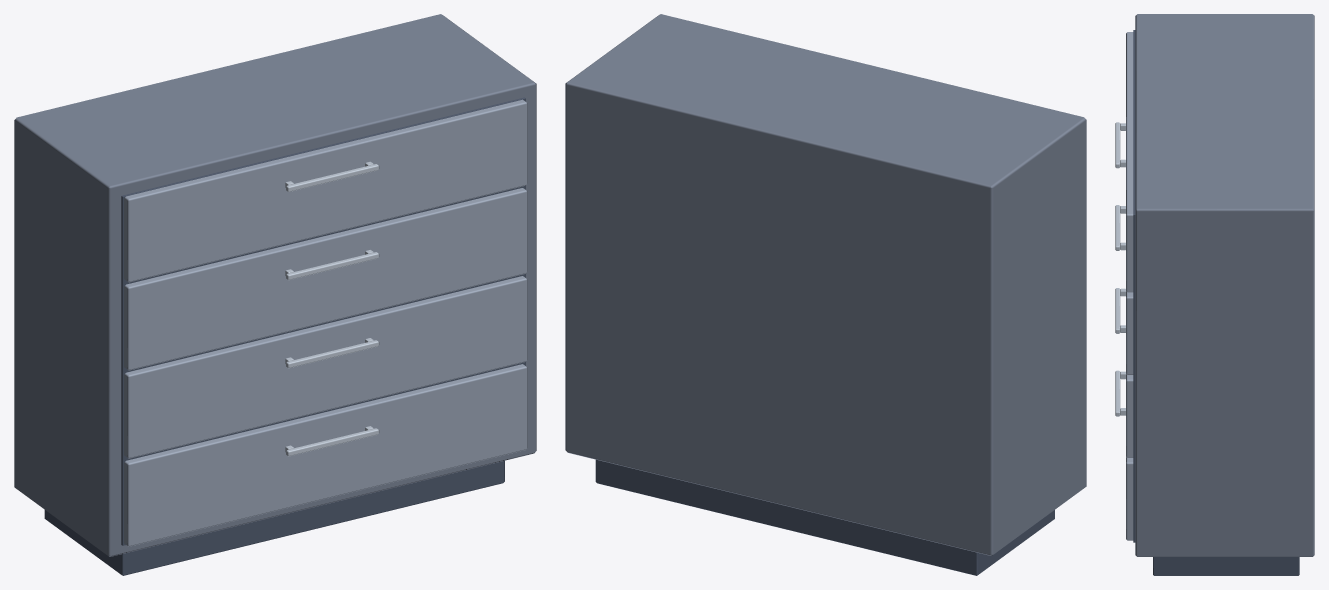
The model's file is drawer-chest-lite.glb.
3 views of the same model, side by side, from view 1: azimuth 30°, elevation 25°; view 2: azimuth 150°, elevation 25°; view 3: azimuth 270°, elevation 25° (orthographic). The views are drawn at different scales.
Parts seen in each view (by area): view 1: drawer-chest; view 2: drawer-chest; view 3: drawer-chest.
Boxes of the visible parts, x1,y1,x2,y2 form: drawer-chest: [14, 14, 536, 575]; drawer-chest: [565, 14, 1086, 575]; drawer-chest: [1115, 14, 1314, 575].
Bounding box in the file's own units: 1.05 × 0.94 × 0.45.
